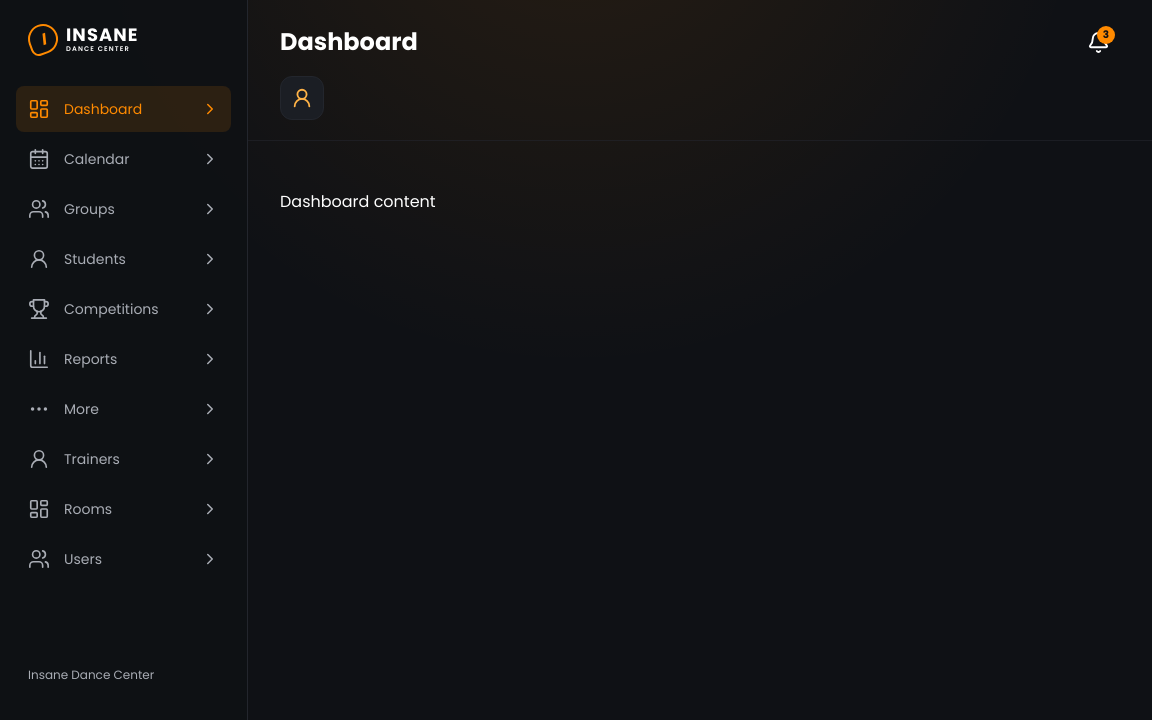
Scenario: AppShell user menu › shows the authenticated admin profile information without an additional request
The width and height of the screenshot is (1152, 720).
Click the button named "Open user menu" at [302, 98], box [280,76,324,120]
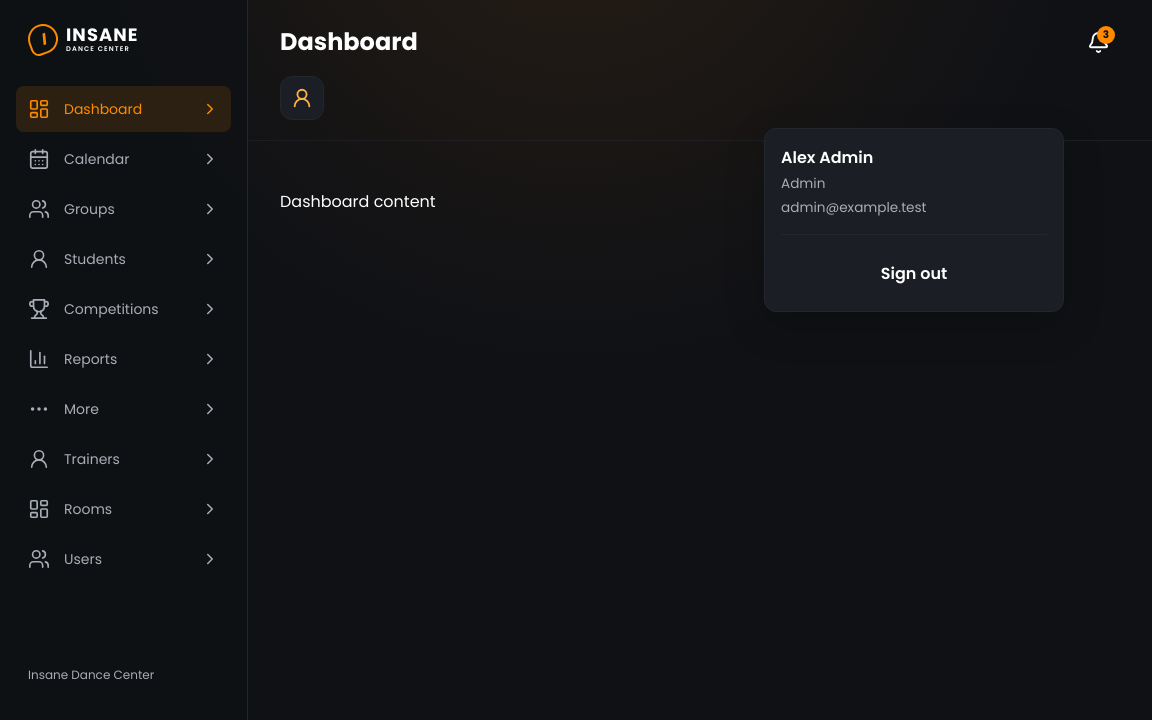
Result: the text "Alex Admin" is shown at [781,146,873,169]
Result: the text "Admin" is shown at [781,174,825,193]
Result: the text "admin@example.test" is shown at [781,198,927,217]
